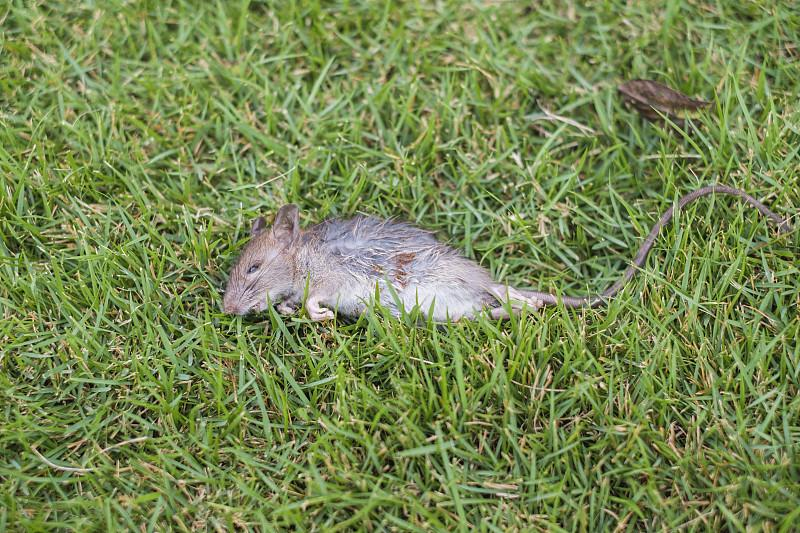rat: (224, 196, 558, 331)
